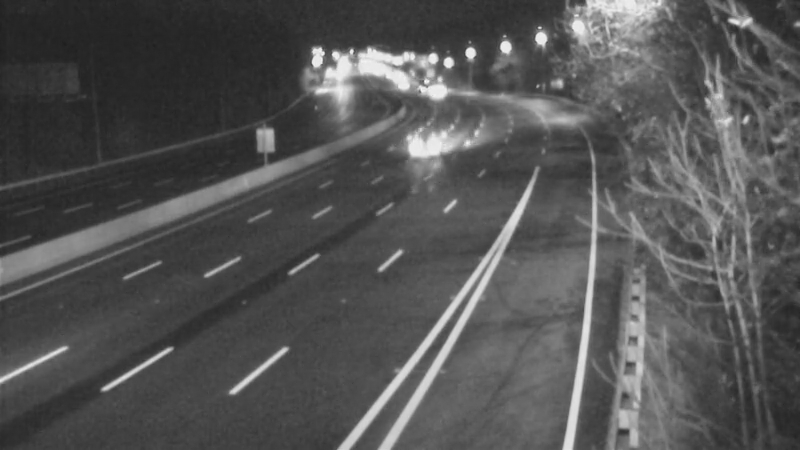vehicle: (402, 59, 452, 109), (376, 59, 426, 109), (413, 68, 463, 118), (401, 121, 451, 171)
